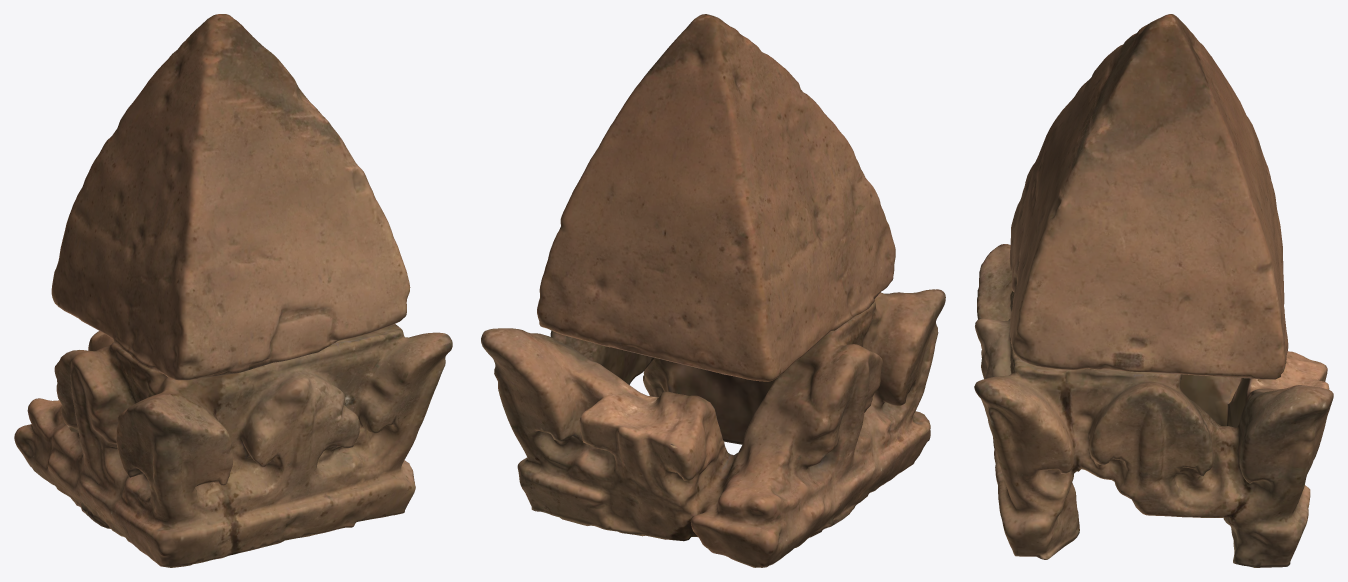
File: MuseumMyson_dinhchopnhon_final.glb
3 renders of one model, left to right at view 1: azimuth 30°, elevation 25°; view 2: azimuth 150°, elevation 25°; view 3: azimuth 270°, elevation 25°, orthographic. The views are drawn at different scales.
Size of the model in its own units: 0.3029 by 0.4416 by 0.2919.
Materials: 1 (1 with a texture image).
